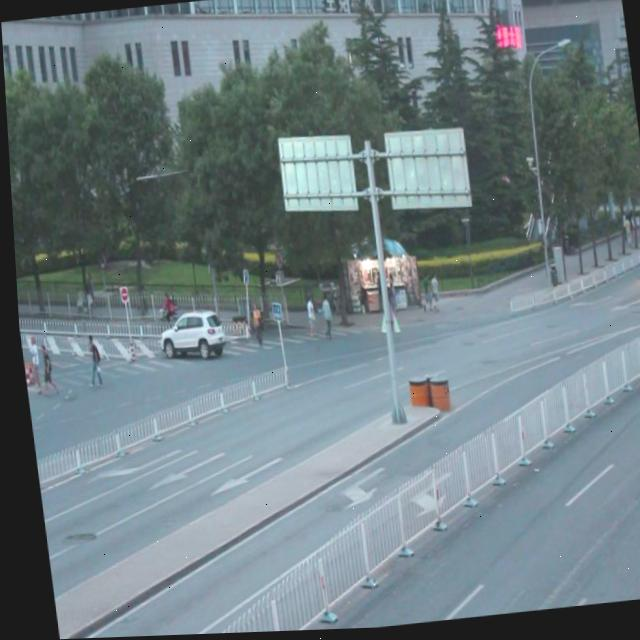car: (153, 307, 223, 365)
van: (637, 226, 640, 318)
